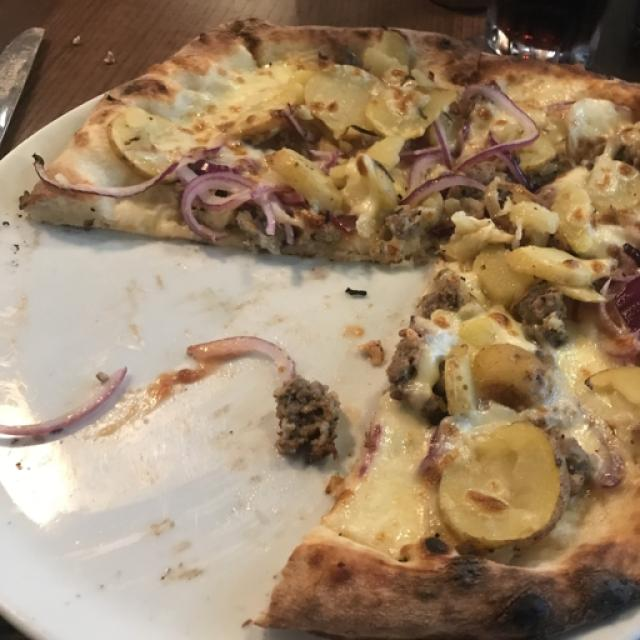pizza: (20, 20, 640, 640)
